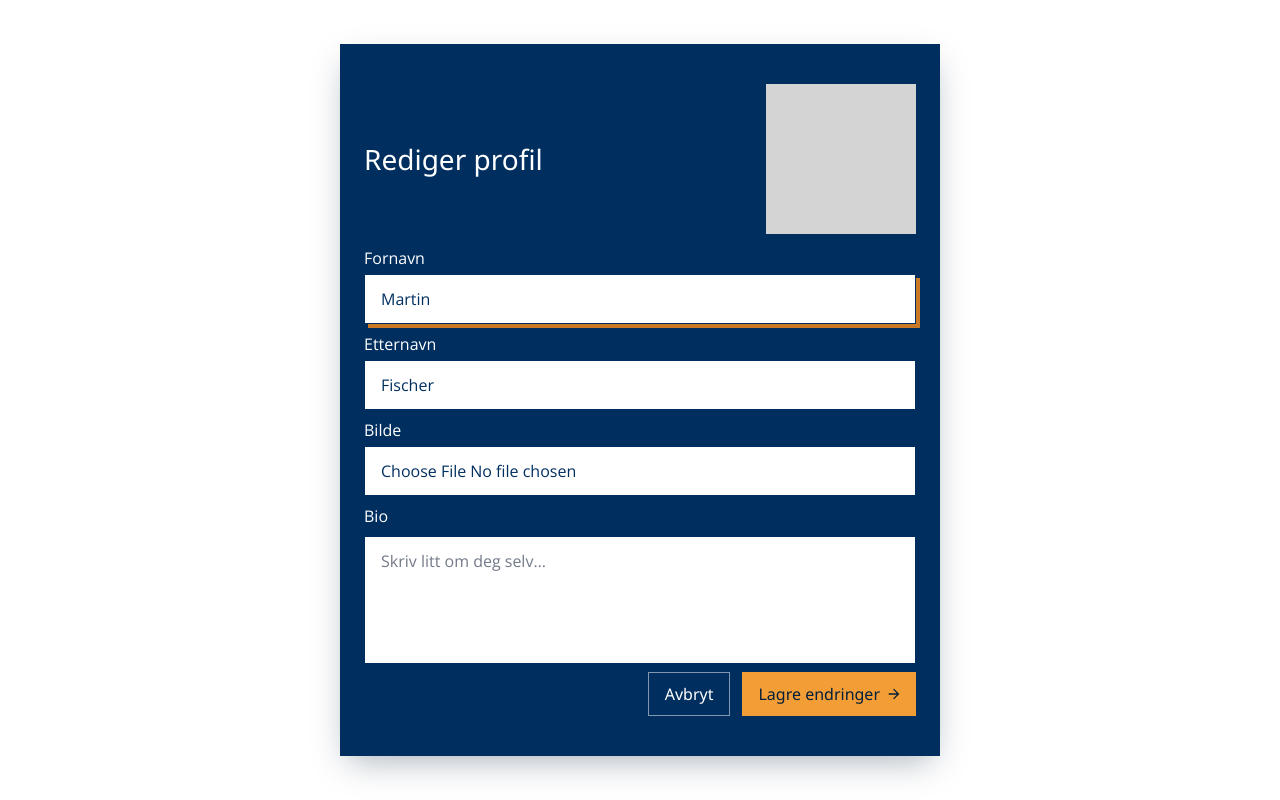
Test case: ProfileForm › falls back to a generic message when the rejection is not an Error
What coordinates should you click on to do the following:
click the button "Lagre endringer"
I would click on:
 (829, 694)
Its box is [742, 672, 916, 716].
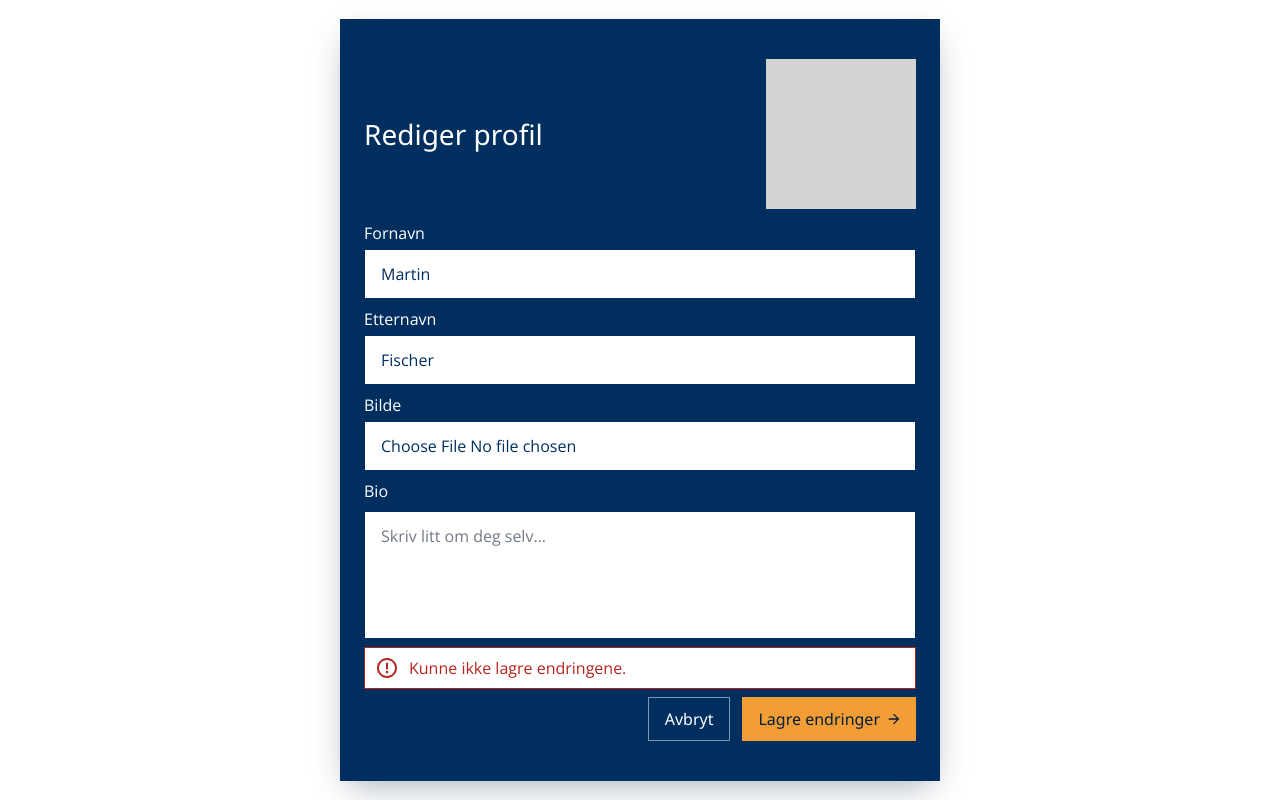
expect the message reads "Kunne ikke lagre endringene.": met, box [409, 657, 626, 679]
